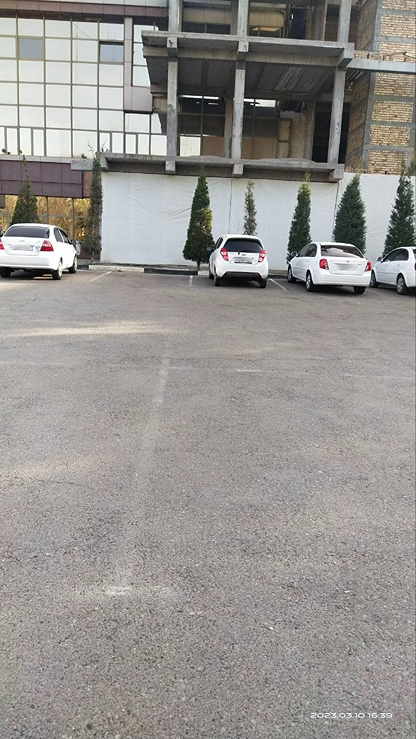car: (0, 209, 85, 290), (290, 241, 370, 288), (210, 235, 268, 284), (377, 242, 416, 301)
tree: (163, 172, 211, 271), (325, 176, 376, 241), (288, 176, 322, 237), (392, 165, 416, 250)
